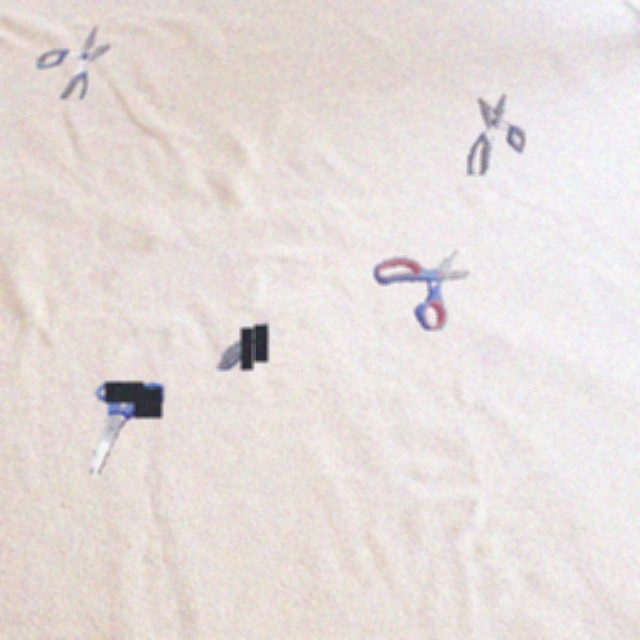scissors: (374, 250, 470, 330), (86, 380, 164, 474), (37, 24, 110, 99), (468, 93, 525, 175), (216, 320, 268, 370)
